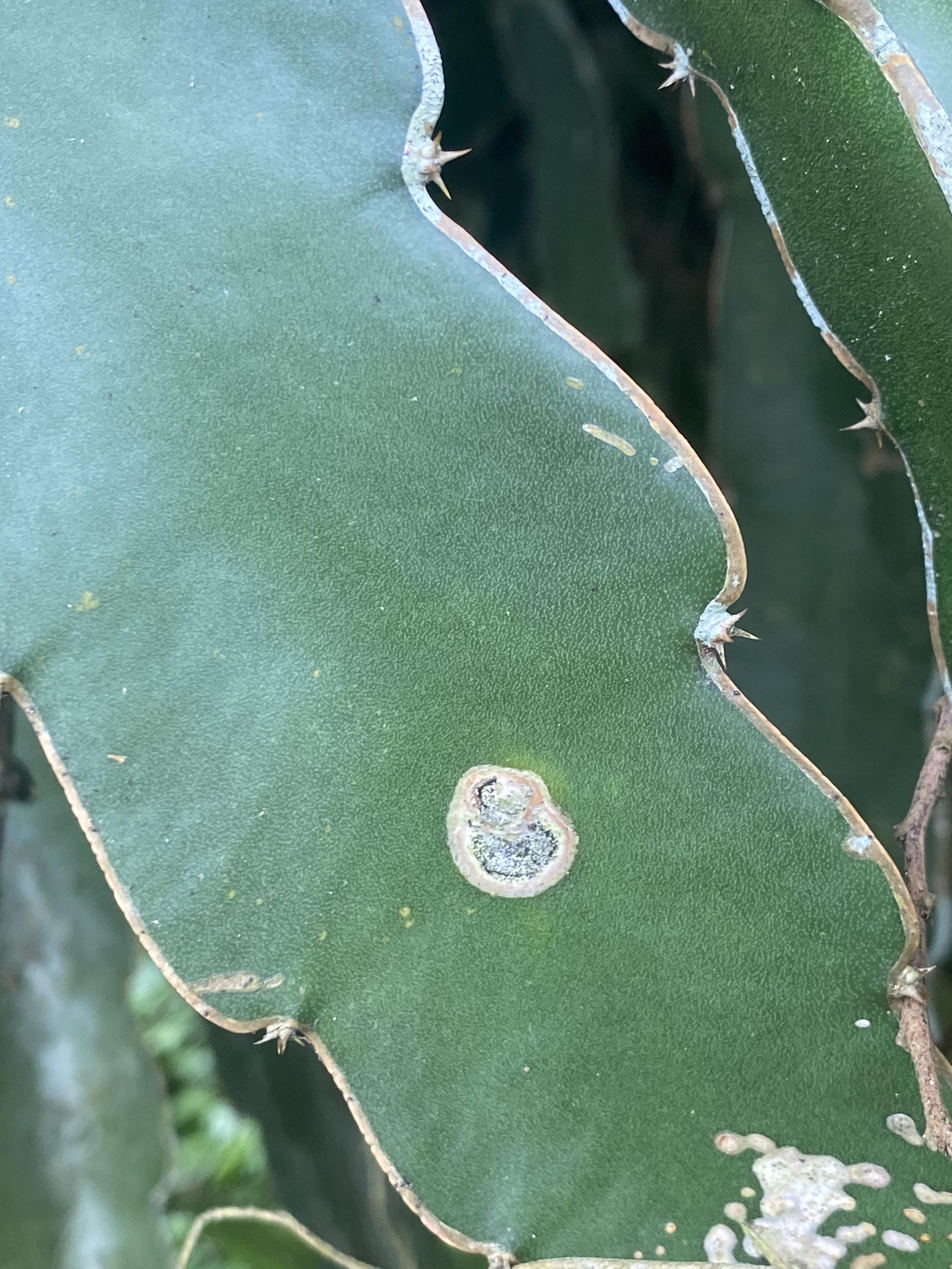stemcanker: (704, 1110, 952, 1269), (444, 752, 588, 902)
